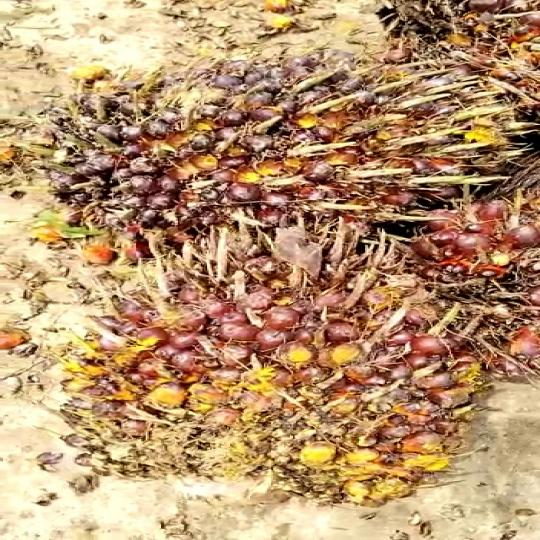masak: (57, 217, 495, 512), (56, 57, 534, 244)
